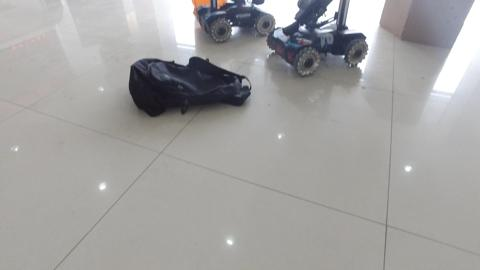bag: (131, 57, 251, 110)
chariot: (271, 1, 366, 73), (199, 1, 278, 42)
